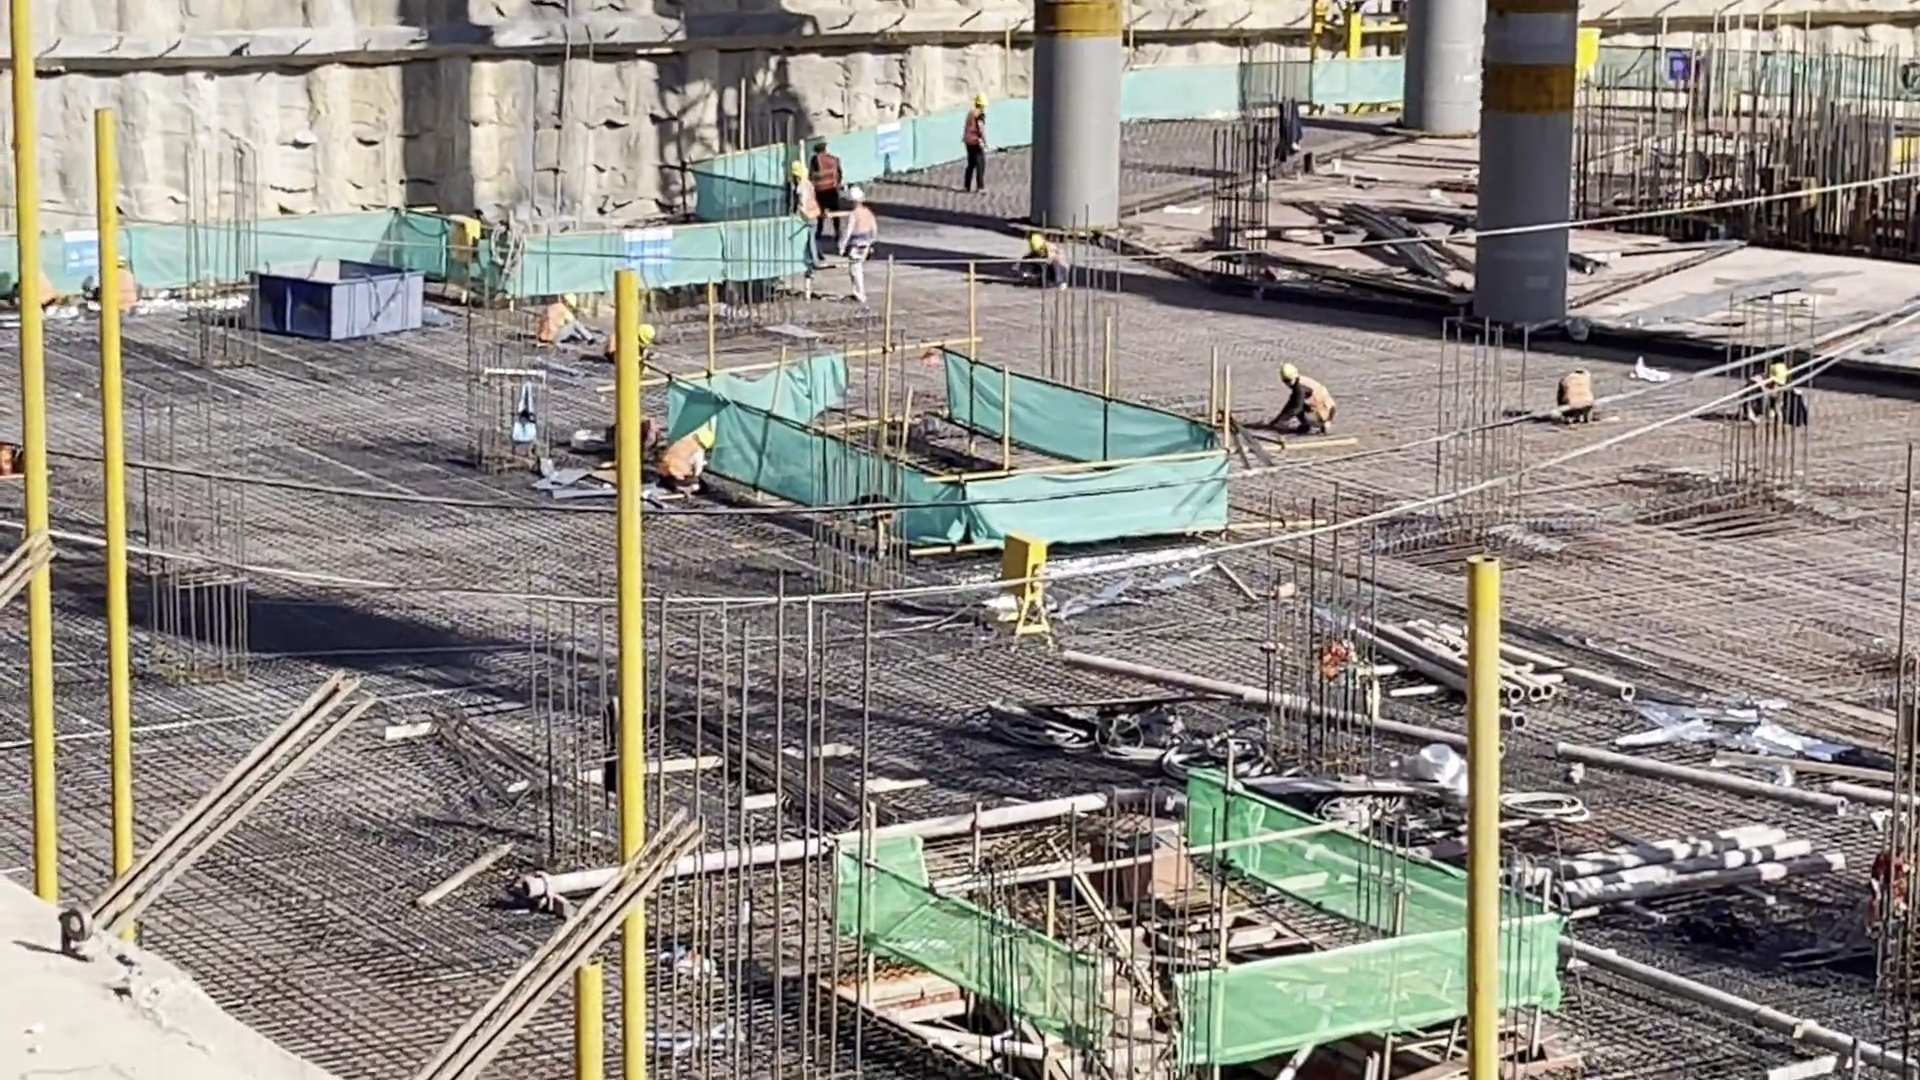ebox: (1001, 529, 1044, 599), (436, 211, 476, 269)
helmet: (694, 426, 709, 450), (634, 323, 653, 341), (1280, 366, 1298, 383), (563, 294, 580, 308), (1029, 235, 1044, 249), (788, 166, 802, 182), (852, 187, 864, 204), (976, 94, 988, 110), (811, 135, 826, 146), (1779, 368, 1788, 386)
hopper: (251, 239, 419, 346)
person: (1274, 356, 1338, 431), (839, 190, 883, 295), (1011, 221, 1077, 291), (1744, 358, 1806, 431), (673, 428, 721, 501), (963, 88, 989, 198), (1559, 351, 1601, 418), (791, 161, 813, 260), (548, 295, 584, 343), (816, 140, 838, 213), (638, 416, 664, 458)
rebar: (1313, 193, 1473, 301)
vest: (1298, 378, 1341, 423), (1039, 234, 1070, 278), (854, 211, 877, 253), (814, 156, 839, 192), (1744, 377, 1769, 416), (1568, 374, 1594, 409), (540, 311, 569, 343), (680, 441, 700, 484), (797, 184, 815, 225), (648, 426, 672, 448), (971, 107, 985, 143)
